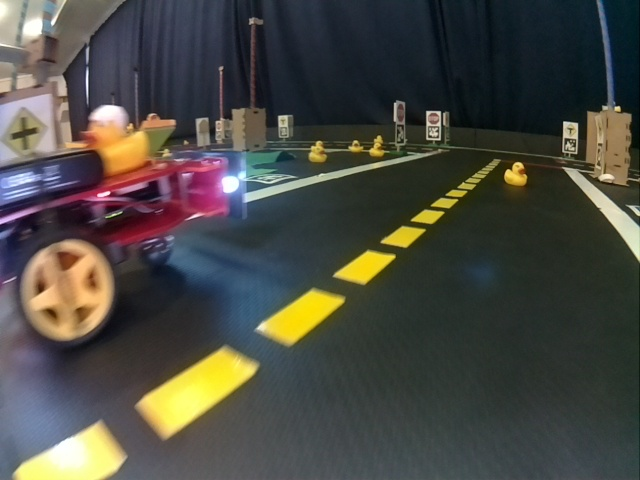Duckie: (82, 111, 144, 167), (505, 163, 527, 185), (309, 147, 327, 162), (370, 144, 384, 156), (373, 136, 383, 144), (314, 141, 323, 149)
Duckiebot: (4, 149, 241, 329)
Intersection sign: (1, 103, 51, 157), (564, 123, 578, 138)
QR code: (247, 174, 295, 183), (396, 124, 405, 145), (427, 126, 440, 139), (564, 139, 576, 152)
Stop sign: (395, 102, 405, 121), (428, 111, 440, 124)
